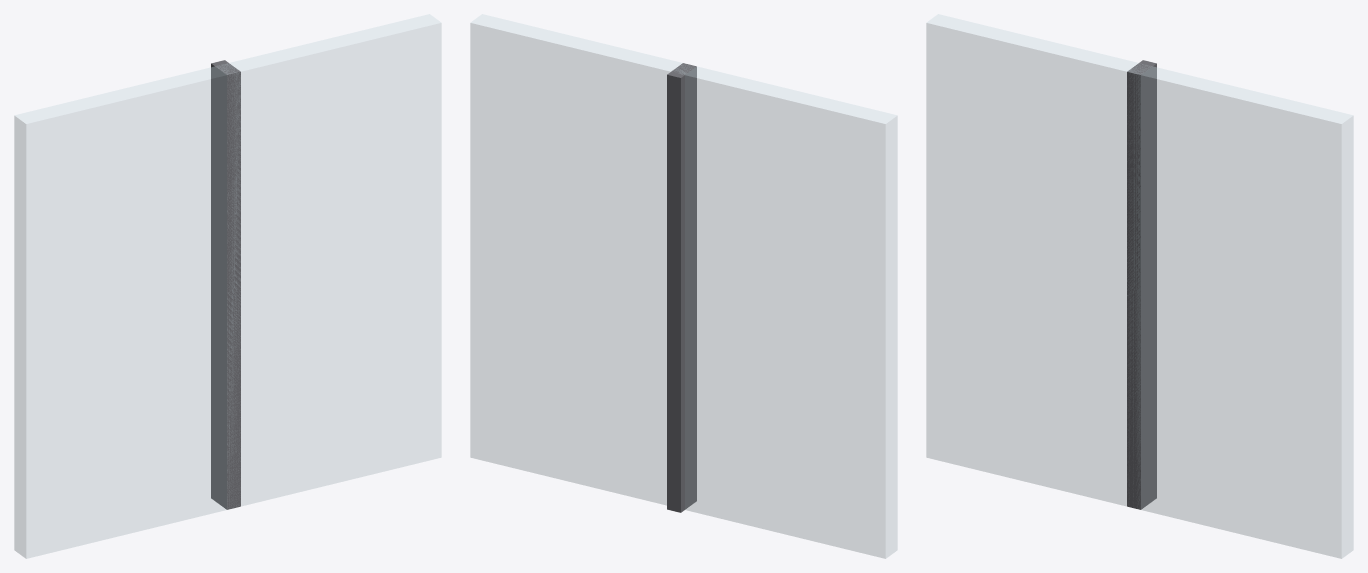
The model's file is win_casement_150.glb.
The picture shows the model from 3 angles, left to right: view 1: azimuth 30°, elevation 25°; view 2: azimuth 150°, elevation 25°; view 3: azimuth 330°, elevation 25°; orthographic projection.
Visible parts, largest first — view 1: win_casement_150; view 2: win_casement_150; view 3: win_casement_150.
Part boxes in pixels (x1,y1,x2,y2): win_casement_150: (14, 14, 441, 558); win_casement_150: (470, 14, 897, 558); win_casement_150: (926, 14, 1353, 558).
Size of what is drawn, in the model's own units: 1.2 by 1.2 by 0.08.
